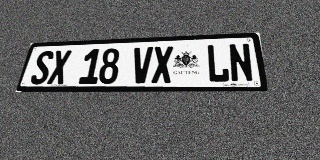1: (78, 49, 103, 84)
8: (97, 48, 121, 84)
L: (206, 44, 230, 83)
N: (228, 43, 254, 82)
S: (29, 51, 55, 84)
V: (131, 47, 153, 83)
X: (47, 50, 72, 84), (151, 46, 173, 83)
